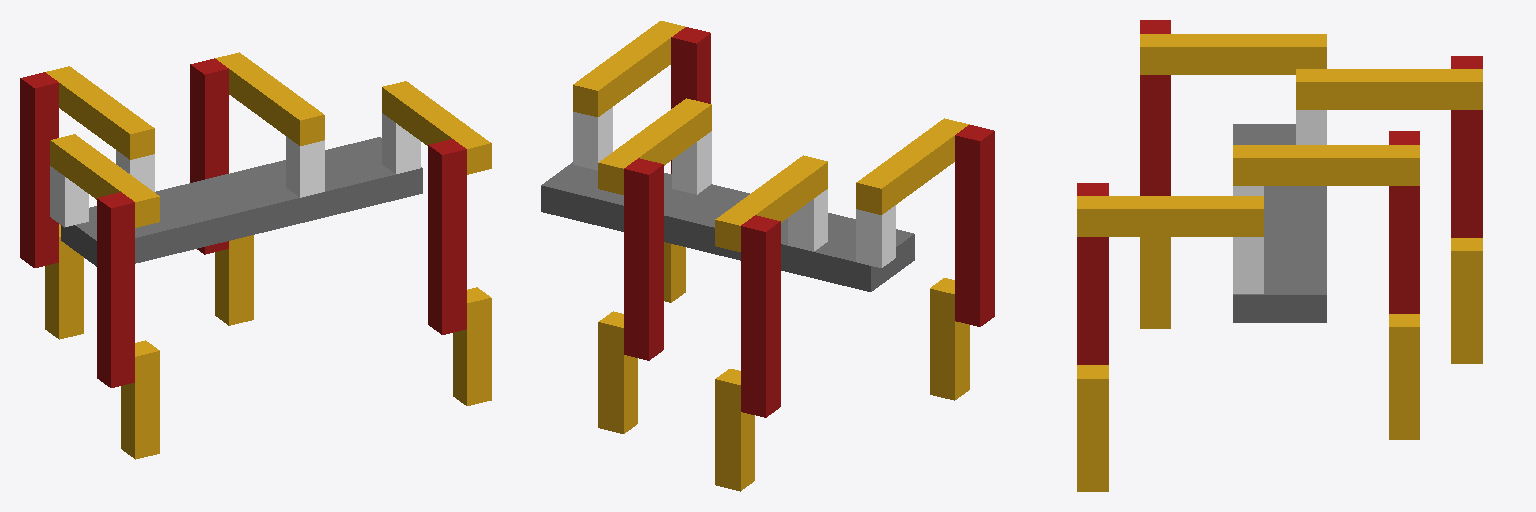
URDF robot description (v0):
<?xml version="1.0" encoding="utf-8"?>
<!-- =================================================================================== -->
<!-- |    This document was autogenerated by xacro from ../robots/v0variants/xacros/v0_4l_30.xacro | -->
<!-- |    EDITING THIS FILE BY HAND IS NOT RECOMMENDED                                 | -->
<!-- =================================================================================== -->
<robot name="v0">
  <material name="grey">
    <color rgba="0.5 0.5 0.5 1"/>
  </material>
  <material name="white">
    <color rgba="1 1 1 1"/>
  </material>
  <material name="yellow">
    <color rgba="0.91 0.7 0.14 1"/>
  </material>
  <material name="red">
    <color rgba="0.71 0.14 0.14 1"/>
  </material>
  <link name="body">
    <visual>
      <geometry>
        <box size="1.3 0.3 0.1"/>
      </geometry>
      <material name="grey"/>
      <origin rpy="0 0 0" xyz="0 0 0.7"/>
    </visual>
    <collision>
      <geometry>
        <box size="1.3 0.3 0.1"/>
      </geometry>
      <origin rpy="0 0 0" xyz="0 0 0.7"/>
    </collision>
    <inertial>
      <mass value="99.84"/>
      <inertia ixx="0.832" ixy="0.0" ixz="0.0" iyy="14.144" iyz="0.0" izz="14.8096"/>
    </inertial>
  </link>
  <link name="l1_segment_1">
    <visual>
      <geometry>
        <box size="0.1 0.1 0.2"/>
      </geometry>
      <material name="white"/>
      <origin rpy="0 0 0" xyz="0 0 0.1"/>
    </visual>
    <collision>
      <geometry>
        <box size="0.1 0.1 0.2"/>
      </geometry>
      <origin rpy="0 0 0" xyz="0 0 0.1"/>
    </collision>
    <inertial>
      <mass value="5.12"/>
      <inertia ixx="0.0213333333333" ixy="0.0" ixz="0.0" iyy="0.0213333333333" iyz="0.0" izz="0.00853333333333"/>
    </inertial>
  </link>
  <joint name="l1_base_to_joint_1" type="fixed">
    <parent link="body"/>
    <child link="l1_segment_1"/>
    <origin rpy="0 0 0" xyz="0.20066911406626176 -0.1 0.75"/>
  </joint>
  <link name="l1_segment_2_HIP">
    <visual>
      <geometry>
        <box size="0.1 0.6 0.1"/>
      </geometry>
      <material name="yellow"/>
      <origin rpy="0 0 0" xyz="0 0.25 0"/>
    </visual>
    <collision>
      <geometry>
        <box size="0.1 0.6 0.1"/>
      </geometry>
      <origin rpy="0 0 0" xyz="0 0.25 0"/>
    </collision>
    <inertial>
      <mass value="15.36"/>
      <inertia ixx="0.4736" ixy="0.0" ixz="0.0" iyy="0.0256" iyz="0.0" izz="0.4736"/>
    </inertial>
  </link>
  <joint name="l1_joint_1_to_2" type="revolute">
    <parent link="l1_segment_1"/>
    <child link="l1_segment_2_HIP"/>
    <origin rpy="0 0 0" xyz="0 0 0.25"/>
    <axis xyz="0.0 0.0 1.0"/>
    <limit effort="2048" lower="-1.2" upper="1.2" velocity="20"/>
  </joint>
  <link name="l1_segment_3_THIGH">
    <visual>
      <geometry>
        <box size="0.1 0.1 0.7"/>
      </geometry>
      <material name="red"/>
      <origin rpy="0 0 0" xyz="0 0 -0.3"/>
    </visual>
    <collision>
      <geometry>
        <box size="0.1 0.1 0.7"/>
      </geometry>
      <origin rpy="0 0 0" xyz="0 0 -0.3"/>
    </collision>
    <inertial>
      <mass value="17.92"/>
      <inertia ixx="0.746666666667" ixy="0.0" ixz="0.0" iyy="0.746666666667" iyz="0.0" izz="0.0298666666667"/>
    </inertial>
  </link>
  <joint name="l1_joint_2_to_3" type="revolute">
    <parent link="l1_segment_2_HIP"/>
    <child link="l1_segment_3_THIGH"/>
    <origin rpy="0 0 0" xyz="-0.1 0.5 0"/>
    <axis xyz="1.0 0.0 0.0"/>
    <limit effort="2048" lower="-0.2" upper="0.75" velocity="20"/>
  </joint>
  <link name="l1_segment_4_FOOT">
    <visual>
      <geometry>
        <box size="0.1 0.1 0.4"/>
      </geometry>
      <material name="yellow"/>
      <origin rpy="0 0 0" xyz="0 0 -0.2"/>
    </visual>
    <collision>
      <geometry>
        <box size="0.1 0.1 0.4"/>
      </geometry>
      <origin rpy="0 0 0" xyz="0 0 -0.2"/>
    </collision>
    <inertial>
      <mass value="10.24"/>
      <inertia ixx="0.145066666667" ixy="0.0" ixz="0.0" iyy="0.145066666667" iyz="0.0" izz="0.0170666666667"/>
    </inertial>
  </link>
  <joint name="l1_joint_3_to_4_FOOT" type="revolute">
    <parent link="l1_segment_3_THIGH"/>
    <child link="l1_segment_4_FOOT"/>
    <origin rpy="0 0 0" xyz="0.1 0 -0.55"/>
    <axis xyz="1.0 0.0 0.0"/>
    <limit effort="2048" lower="-0.2" upper="0.5" velocity="20"/>
  </joint>
  <link name="r2_segment_1">
    <visual>
      <geometry>
        <box size="0.1 0.1 0.2"/>
      </geometry>
      <material name="white"/>
      <origin rpy="0 0 0" xyz="0 0 0.1"/>
    </visual>
    <collision>
      <geometry>
        <box size="0.1 0.1 0.2"/>
      </geometry>
      <origin rpy="0 0 0" xyz="0 0 0.1"/>
    </collision>
    <inertial>
      <mass value="5.12"/>
      <inertia ixx="0.0213333333333" ixy="0.0" ixz="0.0" iyy="0.0213333333333" iyz="0.0" izz="0.00853333333333"/>
    </inertial>
  </link>
  <joint name="r2_base_to_joint_1" type="fixed">
    <parent link="body"/>
    <child link="r2_segment_1"/>
    <origin rpy="0 0 0" xyz="-0.6422011384004364 0.1 0.75"/>
  </joint>
  <link name="r2_segment_2_HIP">
    <visual>
      <geometry>
        <box size="0.1 0.6 0.1"/>
      </geometry>
      <material name="yellow"/>
      <origin rpy="0 0 0" xyz="0 -0.25 0"/>
    </visual>
    <collision>
      <geometry>
        <box size="0.1 0.6 0.1"/>
      </geometry>
      <origin rpy="0 0 0" xyz="0 -0.25 0"/>
    </collision>
    <inertial>
      <mass value="15.36"/>
      <inertia ixx="0.4736" ixy="0.0" ixz="0.0" iyy="0.0256" iyz="0.0" izz="0.4736"/>
    </inertial>
  </link>
  <joint name="r2_joint_1_to_2" type="revolute">
    <parent link="r2_segment_1"/>
    <child link="r2_segment_2_HIP"/>
    <origin rpy="0 0 0" xyz="0 0 0.25"/>
    <axis xyz="0.0 0.0 1.0"/>
    <limit effort="2048" lower="-1.2" upper="1.2" velocity="20"/>
  </joint>
  <link name="r2_segment_3_THIGH">
    <visual>
      <geometry>
        <box size="0.1 0.1 0.7"/>
      </geometry>
      <material name="red"/>
      <origin rpy="0 0 0" xyz="0 0 -0.3"/>
    </visual>
    <collision>
      <geometry>
        <box size="0.1 0.1 0.7"/>
      </geometry>
      <origin rpy="0 0 0" xyz="0 0 -0.3"/>
    </collision>
    <inertial>
      <mass value="17.92"/>
      <inertia ixx="0.746666666667" ixy="0.0" ixz="0.0" iyy="0.746666666667" iyz="0.0" izz="0.0298666666667"/>
    </inertial>
  </link>
  <joint name="r2_joint_2_to_3" type="revolute">
    <parent link="r2_segment_2_HIP"/>
    <child link="r2_segment_3_THIGH"/>
    <origin rpy="0 0 0" xyz="-0.1 -0.5 0"/>
    <axis xyz="1.0 0.0 0.0"/>
    <limit effort="2048" lower="-0.75" upper="0.2" velocity="20"/>
  </joint>
  <link name="r2_segment_4_FOOT">
    <visual>
      <geometry>
        <box size="0.1 0.1 0.4"/>
      </geometry>
      <material name="yellow"/>
      <origin rpy="0 0 0" xyz="0 0 -0.2"/>
    </visual>
    <collision>
      <geometry>
        <box size="0.1 0.1 0.4"/>
      </geometry>
      <origin rpy="0 0 0" xyz="0 0 -0.2"/>
    </collision>
    <inertial>
      <mass value="10.24"/>
      <inertia ixx="0.145066666667" ixy="0.0" ixz="0.0" iyy="0.145066666667" iyz="0.0" izz="0.0170666666667"/>
    </inertial>
  </link>
  <joint name="r2_joint_3_to_4_FOOT" type="revolute">
    <parent link="r2_segment_3_THIGH"/>
    <child link="r2_segment_4_FOOT"/>
    <origin rpy="0 0 0" xyz="0.1 0 -0.55"/>
    <axis xyz="1.0 0.0 0.0"/>
    <limit effort="2048" lower="-0.5" upper="0.2" velocity="20"/>
  </joint>
  <link name="l3_segment_1">
    <visual>
      <geometry>
        <box size="0.1 0.1 0.2"/>
      </geometry>
      <material name="white"/>
      <origin rpy="0 0 0" xyz="0 0 0.1"/>
    </visual>
    <collision>
      <geometry>
        <box size="0.1 0.1 0.2"/>
      </geometry>
      <origin rpy="0 0 0" xyz="0 0 0.1"/>
    </collision>
    <inertial>
      <mass value="5.12"/>
      <inertia ixx="0.0213333333333" ixy="0.0" ixz="0.0" iyy="0.0213333333333" iyz="0.0" izz="0.00853333333333"/>
    </inertial>
  </link>
  <joint name="l3_base_to_joint_1" type="fixed">
    <parent link="body"/>
    <child link="l3_segment_1"/>
    <origin rpy="0 0 0" xyz="-0.37490944456054753 0.1 0.75"/>
  </joint>
  <link name="l3_segment_2_HIP">
    <visual>
      <geometry>
        <box size="0.1 0.6 0.1"/>
      </geometry>
      <material name="yellow"/>
      <origin rpy="0 0 0" xyz="0 0.25 0"/>
    </visual>
    <collision>
      <geometry>
        <box size="0.1 0.6 0.1"/>
      </geometry>
      <origin rpy="0 0 0" xyz="0 0.25 0"/>
    </collision>
    <inertial>
      <mass value="15.36"/>
      <inertia ixx="0.4736" ixy="0.0" ixz="0.0" iyy="0.0256" iyz="0.0" izz="0.4736"/>
    </inertial>
  </link>
  <joint name="l3_joint_1_to_2" type="revolute">
    <parent link="l3_segment_1"/>
    <child link="l3_segment_2_HIP"/>
    <origin rpy="0 0 0" xyz="0 0 0.25"/>
    <axis xyz="0.0 0.0 1.0"/>
    <limit effort="2048" lower="-1.2" upper="1.2" velocity="20"/>
  </joint>
  <link name="l3_segment_3_THIGH">
    <visual>
      <geometry>
        <box size="0.1 0.1 0.7"/>
      </geometry>
      <material name="red"/>
      <origin rpy="0 0 0" xyz="0 0 -0.3"/>
    </visual>
    <collision>
      <geometry>
        <box size="0.1 0.1 0.7"/>
      </geometry>
      <origin rpy="0 0 0" xyz="0 0 -0.3"/>
    </collision>
    <inertial>
      <mass value="17.92"/>
      <inertia ixx="0.746666666667" ixy="0.0" ixz="0.0" iyy="0.746666666667" iyz="0.0" izz="0.0298666666667"/>
    </inertial>
  </link>
  <joint name="l3_joint_2_to_3" type="revolute">
    <parent link="l3_segment_2_HIP"/>
    <child link="l3_segment_3_THIGH"/>
    <origin rpy="0 0 0" xyz="-0.1 0.5 0"/>
    <axis xyz="1.0 0.0 0.0"/>
    <limit effort="2048" lower="-0.2" upper="0.75" velocity="20"/>
  </joint>
  <link name="l3_segment_4_FOOT">
    <visual>
      <geometry>
        <box size="0.1 0.1 0.4"/>
      </geometry>
      <material name="yellow"/>
      <origin rpy="0 0 0" xyz="0 0 -0.2"/>
    </visual>
    <collision>
      <geometry>
        <box size="0.1 0.1 0.4"/>
      </geometry>
      <origin rpy="0 0 0" xyz="0 0 -0.2"/>
    </collision>
    <inertial>
      <mass value="10.24"/>
      <inertia ixx="0.145066666667" ixy="0.0" ixz="0.0" iyy="0.145066666667" iyz="0.0" izz="0.0170666666667"/>
    </inertial>
  </link>
  <joint name="l3_joint_3_to_4_FOOT" type="revolute">
    <parent link="l3_segment_3_THIGH"/>
    <child link="l3_segment_4_FOOT"/>
    <origin rpy="0 0 0" xyz="0.1 0 -0.55"/>
    <axis xyz="1.0 0.0 0.0"/>
    <limit effort="2048" lower="-0.2" upper="0.5" velocity="20"/>
  </joint>
  <link name="r4_segment_1">
    <visual>
      <geometry>
        <box size="0.1 0.1 0.2"/>
      </geometry>
      <material name="white"/>
      <origin rpy="0 0 0" xyz="0 0 0.1"/>
    </visual>
    <collision>
      <geometry>
        <box size="0.1 0.1 0.2"/>
      </geometry>
      <origin rpy="0 0 0" xyz="0 0 0.1"/>
    </collision>
    <inertial>
      <mass value="5.12"/>
      <inertia ixx="0.0213333333333" ixy="0.0" ixz="0.0" iyy="0.0213333333333" iyz="0.0" izz="0.00853333333333"/>
    </inertial>
  </link>
  <joint name="r4_base_to_joint_1" type="fixed">
    <parent link="body"/>
    <child link="r4_segment_1"/>
    <origin rpy="0 0 0" xyz="0.5906238727484047 -0.1 0.75"/>
  </joint>
  <link name="r4_segment_2_HIP">
    <visual>
      <geometry>
        <box size="0.1 0.6 0.1"/>
      </geometry>
      <material name="yellow"/>
      <origin rpy="0 0 0" xyz="0 -0.25 0"/>
    </visual>
    <collision>
      <geometry>
        <box size="0.1 0.6 0.1"/>
      </geometry>
      <origin rpy="0 0 0" xyz="0 -0.25 0"/>
    </collision>
    <inertial>
      <mass value="15.36"/>
      <inertia ixx="0.4736" ixy="0.0" ixz="0.0" iyy="0.0256" iyz="0.0" izz="0.4736"/>
    </inertial>
  </link>
  <joint name="r4_joint_1_to_2" type="revolute">
    <parent link="r4_segment_1"/>
    <child link="r4_segment_2_HIP"/>
    <origin rpy="0 0 0" xyz="0 0 0.25"/>
    <axis xyz="0.0 0.0 1.0"/>
    <limit effort="2048" lower="-1.2" upper="1.2" velocity="20"/>
  </joint>
  <link name="r4_segment_3_THIGH">
    <visual>
      <geometry>
        <box size="0.1 0.1 0.7"/>
      </geometry>
      <material name="red"/>
      <origin rpy="0 0 0" xyz="0 0 -0.3"/>
    </visual>
    <collision>
      <geometry>
        <box size="0.1 0.1 0.7"/>
      </geometry>
      <origin rpy="0 0 0" xyz="0 0 -0.3"/>
    </collision>
    <inertial>
      <mass value="17.92"/>
      <inertia ixx="0.746666666667" ixy="0.0" ixz="0.0" iyy="0.746666666667" iyz="0.0" izz="0.0298666666667"/>
    </inertial>
  </link>
  <joint name="r4_joint_2_to_3" type="revolute">
    <parent link="r4_segment_2_HIP"/>
    <child link="r4_segment_3_THIGH"/>
    <origin rpy="0 0 0" xyz="-0.1 -0.5 0"/>
    <axis xyz="1.0 0.0 0.0"/>
    <limit effort="2048" lower="-0.75" upper="0.2" velocity="20"/>
  </joint>
  <link name="r4_segment_4_FOOT">
    <visual>
      <geometry>
        <box size="0.1 0.1 0.4"/>
      </geometry>
      <material name="yellow"/>
      <origin rpy="0 0 0" xyz="0 0 -0.2"/>
    </visual>
    <collision>
      <geometry>
        <box size="0.1 0.1 0.4"/>
      </geometry>
      <origin rpy="0 0 0" xyz="0 0 -0.2"/>
    </collision>
    <inertial>
      <mass value="10.24"/>
      <inertia ixx="0.145066666667" ixy="0.0" ixz="0.0" iyy="0.145066666667" iyz="0.0" izz="0.0170666666667"/>
    </inertial>
  </link>
  <joint name="r4_joint_3_to_4_FOOT" type="revolute">
    <parent link="r4_segment_3_THIGH"/>
    <child link="r4_segment_4_FOOT"/>
    <origin rpy="0 0 0" xyz="0.1 0 -0.55"/>
    <axis xyz="1.0 0.0 0.0"/>
    <limit effort="2048" lower="-0.5" upper="0.2" velocity="20"/>
  </joint>
</robot>

--- Render facts (derived) ---
Views: 3 orthographic renders of the robot side by side, from view 1: azimuth 30°, elevation 25°; view 2: azimuth 150°, elevation 25°; view 3: azimuth 270°, elevation 25°.
Robot: v0 — 17 links, 16 joints (12 revolute, 4 fixed); root link body; default pose: all joints at 0.
Links seen in each view (by area): view 1: body, r4_segment_3_THIGH, r2_segment_3_THIGH, l3_segment_3_THIGH, l1_segment_3_THIGH, l1_segment_2_HIP, l3_segment_2_HIP, r2_segment_2_HIP, r4_segment_2_HIP, r2_segment_4_FOOT, r4_segment_4_FOOT, l3_segment_4_FOOT (+5 smaller); view 2: body, l3_segment_3_THIGH, l1_segment_3_THIGH, r2_segment_3_THIGH, r2_segment_2_HIP, r4_segment_2_HIP, l1_segment_2_HIP, l3_segment_2_HIP, l3_segment_4_FOOT, l1_segment_4_FOOT, r2_segment_4_FOOT, r4_segment_3_THIGH (+5 smaller); view 3: body, l1_segment_2_HIP, l3_segment_2_HIP, r4_segment_2_HIP, r2_segment_2_HIP, l3_segment_3_THIGH, r4_segment_3_THIGH, l1_segment_3_THIGH, r2_segment_3_THIGH, r4_segment_4_FOOT, l3_segment_4_FOOT, l1_segment_4_FOOT (+3 smaller).
Link boxes in pixels (<box>): body: <box>61,137,422,266</box>; r4_segment_3_THIGH: <box>428,139,466,334</box>; r2_segment_3_THIGH: <box>97,192,134,387</box>; l3_segment_3_THIGH: <box>20,72,58,267</box>; l1_segment_3_THIGH: <box>190,58,228,254</box>; l1_segment_2_HIP: <box>215,52,324,145</box>; l3_segment_2_HIP: <box>46,66,154,159</box>; r2_segment_2_HIP: <box>50,134,159,227</box>; r4_segment_2_HIP: <box>382,81,491,174</box>; r2_segment_4_FOOT: <box>121,340,159,459</box>; r4_segment_4_FOOT: <box>453,287,491,405</box>; l3_segment_4_FOOT: <box>45,224,83,339</box>; body: <box>541,162,914,291</box>; l3_segment_3_THIGH: <box>741,215,780,417</box>; l1_segment_3_THIGH: <box>624,158,663,360</box>; r2_segment_3_THIGH: <box>955,125,994,326</box>; r2_segment_2_HIP: <box>856,118,969,214</box>; r4_segment_2_HIP: <box>573,21,684,116</box>; l1_segment_2_HIP: <box>598,98,711,194</box>; l3_segment_2_HIP: <box>715,155,827,251</box>; l3_segment_4_FOOT: <box>715,369,754,491</box>; l1_segment_4_FOOT: <box>598,311,637,433</box>; r2_segment_4_FOOT: <box>930,278,969,400</box>; r4_segment_3_THIGH: <box>671,27,710,173</box>; body: <box>1233,124,1326,322</box>; l1_segment_2_HIP: <box>1233,145,1419,185</box>; l3_segment_2_HIP: <box>1296,69,1482,109</box>; r4_segment_2_HIP: <box>1077,196,1263,236</box>; r2_segment_2_HIP: <box>1140,34,1326,74</box>; l3_segment_3_THIGH: <box>1451,56,1482,237</box>; r4_segment_3_THIGH: <box>1077,183,1108,364</box>; l1_segment_3_THIGH: <box>1389,131,1419,313</box>; r2_segment_3_THIGH: <box>1140,20,1170,195</box>; r4_segment_4_FOOT: <box>1077,365,1108,491</box>; l3_segment_4_FOOT: <box>1451,238,1482,363</box>; l1_segment_4_FOOT: <box>1389,314,1419,439</box>.
Size in the robot's own frame: 1.44 by 1.3 by 1 metres.
Geometry: primitives only (box / cylinder / sphere), no mesh files.